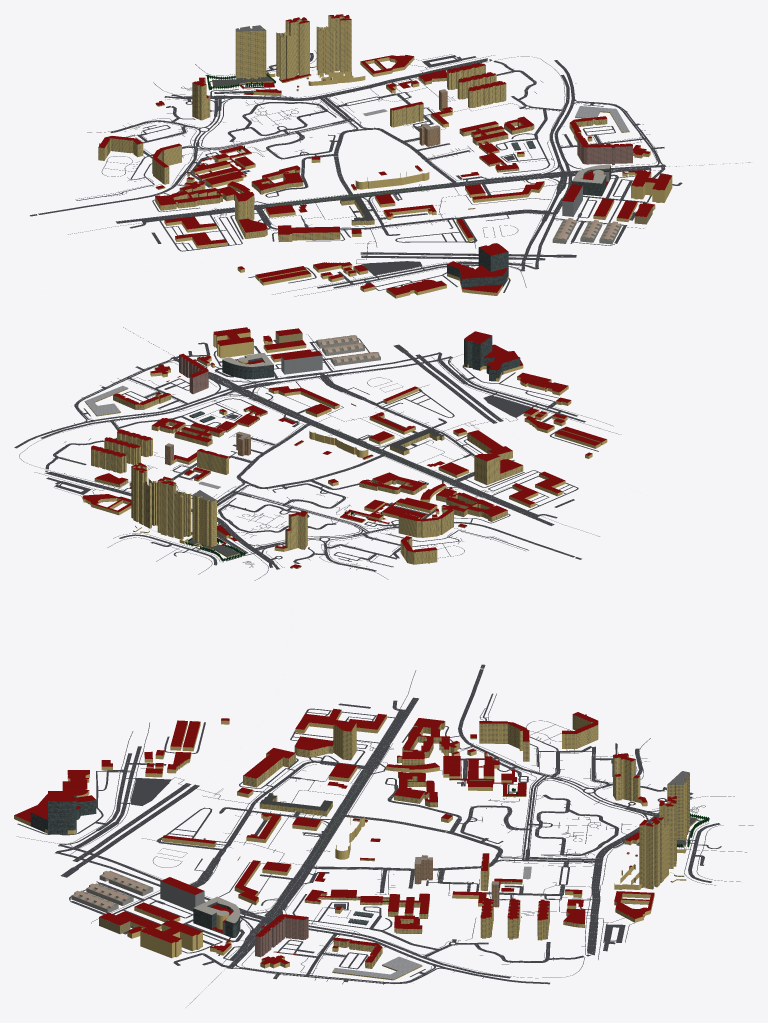
File: osm3d.glb
3 renders of one model, top to bottom at view 1: azimuth 30°, elevation 25°; view 2: azimuth 150°, elevation 25°; view 3: azimuth 270°, elevation 25°, orthographic. The views are drawn at different scales.
Visible parts, largest first — view 1: ASPHALT, Plaster002, RoofingTiles010, Windows.001, GLASS_WALL, Concrete034.002, Concrete034.003, Concrete034, STEEL, BRICK, Windows.002; view 2: ASPHALT, Plaster002, RoofingTiles010, Windows.001, GLASS_WALL, Concrete034.002, Concrete034, Concrete034.006, Concrete034.003, STEEL, BRICK; view 3: ASPHALT, Plaster002, RoofingTiles010, Windows.001, GLASS_WALL, Concrete034.002, Concrete034, Concrete034.003, STEEL, Concrete034.006.
Boxes of the visible parts, <box> form: ASPHALT: <box>30,50,682,296</box>; Plaster002: <box>98,15,672,298</box>; RoofingTiles010: <box>98,14,671,295</box>; Windows.001: <box>98,16,629,241</box>; GLASS_WALL: <box>221,83,610,287</box>; Concrete034.002: <box>552,164,621,244</box>; Concrete034.003: <box>577,138,632,165</box>; Concrete034: <box>68,25,660,287</box>; STEEL: <box>210,106,629,160</box>; BRICK: <box>419,91,475,209</box>; Windows.002: <box>578,141,632,164</box>; ASPHALT: <box>14,334,621,580</box>; Plaster002: <box>82,330,607,568</box>; RoofingTiles010: <box>83,327,606,567</box>; Windows.001: <box>86,389,522,568</box>; GLASS_WALL: <box>189,336,520,550</box>; Concrete034.002: <box>222,335,380,366</box>; Concrete034: <box>19,354,599,569</box>; Concrete034.006: <box>281,355,322,374</box>; Concrete034.003: <box>179,355,208,394</box>; STEEL: <box>85,385,220,488</box>; BRICK: <box>165,403,356,465</box>; ASPHALT: <box>17,664,753,984</box>; Plaster002: <box>14,710,697,980</box>; RoofingTiles010: <box>14,708,676,964</box>; Windows.001: <box>243,715,694,979</box>; GLASS_WALL: <box>30,795,686,937</box>; Concrete034.002: <box>71,870,240,934</box>; Concrete034: <box>16,670,705,978</box>; Concrete034.003: <box>255,917,308,957</box>; STEEL: <box>332,866,531,979</box>; Concrete034.006: <box>160,881,204,911</box>.
Size of the model in its own units: 1705 by 125 by 1335.
Materials: 33 (31 with a texture image).
